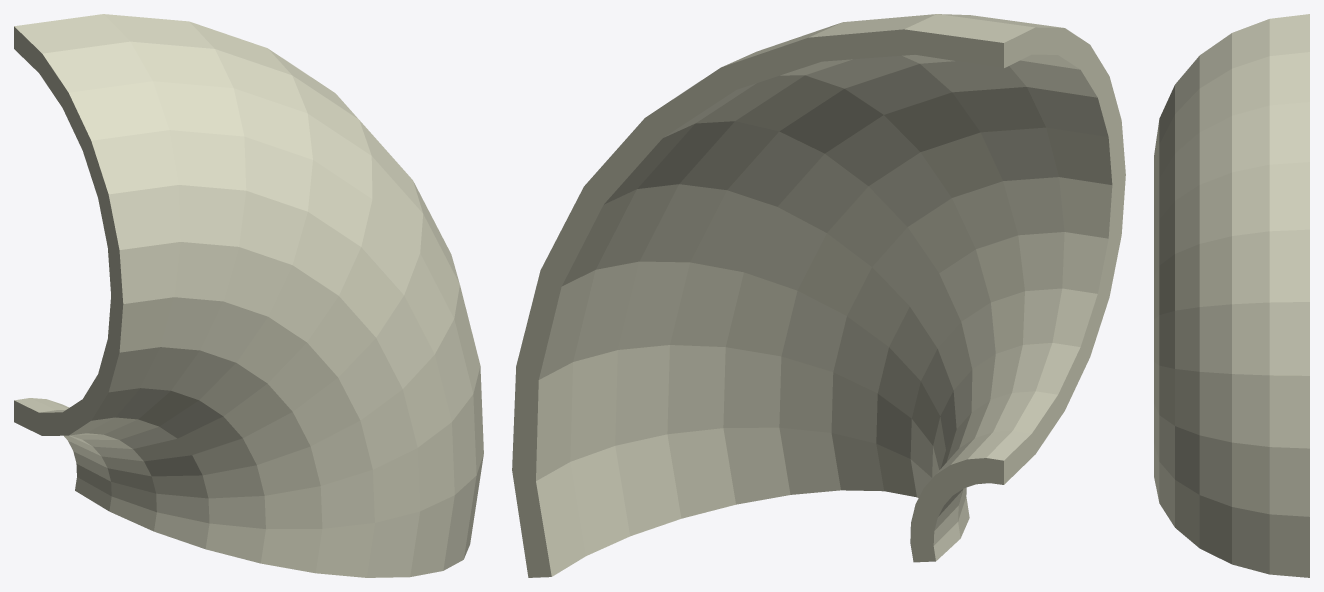
File: section_081.obj
3 views of the same model, side by side, from view 1: azimuth 30°, elevation 25°; view 2: azimuth 150°, elevation 25°; view 3: azimuth 270°, elevation 25° (orthographic). The views are drawn at different scales.
Bounding box in the file's own units: 20.96 × 26.51 × 9.
